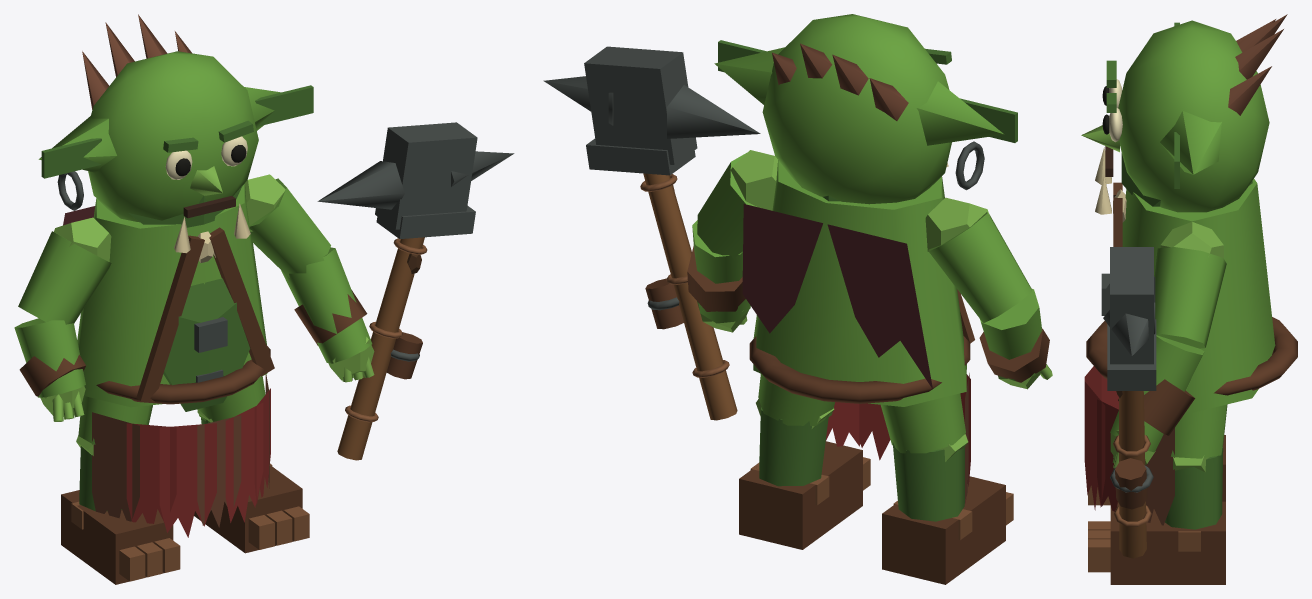
The model's file is goblin.glb.
3 views of the same model, side by side, from view 1: azimuth 30°, elevation 25°; view 2: azimuth 150°, elevation 25°; view 3: azimuth 270°, elevation 25° (orthographic). The views are drawn at different scales.
Parts seen in each view (by area): view 1: Head, Torso, Club_Head, Belly_Patch, Left_UpperArm, Club_Shaft, Left_Boot, Right_Forearm, Loincloth_3, Loincloth_1, Right_UpperArm, Loincloth_2 (+31 smaller); view 2: Head, Torso, Ragged_Shoulder_Mantle, Club_Head, Right_Boot, Left_Boot, Left_UpperArm, Club_Shaft, Left_Calf, Belt, Right_Calf, Left_Thigh (+21 smaller); view 3: Head, Torso, Right_Boot, Right_UpperArm, Club_Head, Right_Calf, Belt, Club_Shaft, Right_Ear, Right_Thigh, Right_Forearm, Loincloth_7 (+26 smaller).
Boxes of the visible parts, box(x1,y1,x2,y2) form: Head: box(88, 51, 258, 222); Torso: box(77, 183, 267, 407); Club_Head: box(375, 122, 477, 229); Belly_Patch: box(163, 278, 250, 411); Left_UpperArm: box(18, 231, 111, 324); Club_Shaft: box(337, 237, 424, 460); Left_Boot: box(61, 490, 173, 584); Right_Forearm: box(281, 247, 372, 363); Loincloth_3: box(159, 423, 216, 537); Loincloth_1: box(92, 412, 139, 521); Right_UpperArm: box(249, 178, 330, 277); Loincloth_2: box(126, 423, 176, 523); Head: box(762, 14, 951, 204); Torso: box(753, 160, 966, 406); Ragged_Shoulder_Mantle: box(742, 204, 932, 389); Club_Head: box(584, 46, 697, 164); Right_Boot: box(739, 441, 862, 549); Left_Boot: box(882, 476, 1005, 584); Left_UpperArm: box(928, 212, 1031, 322); Club_Shaft: box(643, 173, 737, 420); Left_Calf: box(892, 442, 964, 521); Belt: box(749, 336, 970, 403); Right_Calf: box(759, 407, 828, 486); Left_Thigh: box(880, 393, 965, 453); Head: box(1118, 20, 1269, 212); Torso: box(1122, 179, 1275, 412); Right_Boot: box(1110, 501, 1225, 584); Right_UpperArm: box(1154, 247, 1226, 348); Club_Head: box(1110, 247, 1153, 364); Right_Calf: box(1165, 447, 1223, 529); Belt: box(1086, 317, 1297, 395); Club_Shaft: box(1119, 391, 1146, 558); Right_Ear: box(1160, 111, 1221, 174); Right_Thigh: box(1171, 404, 1227, 458); Right_Forearm: box(1110, 335, 1204, 452); Loincloth_7: box(1145, 428, 1174, 525).
Size of the model in its own units: 4.59 by 4.51 by 1.73.
